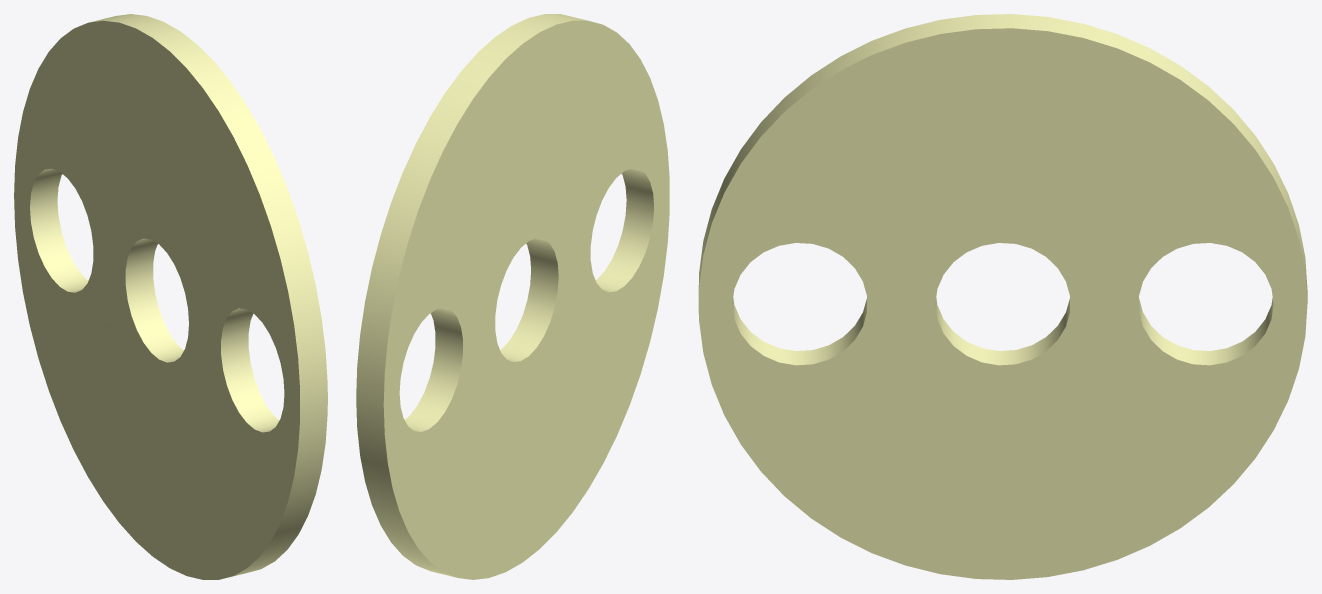
Rendered from joint1PlateWheel.obj.
3 views of the same model, side by side, from view 1: azimuth 30°, elevation 25°; view 2: azimuth 150°, elevation 25°; view 3: azimuth 270°, elevation 25° (orthographic). The views are drawn at different scales.
Parts seen in each view (by area): view 1: Root|joint1PlateWheel_(Default)|Default|Default_-_Part; view 2: Root|joint1PlateWheel_(Default)|Default|Default_-_Part; view 3: Root|joint1PlateWheel_(Default)|Default|Default_-_Part.
Part boxes in pixels (x1,y1,x2,y2): Root|joint1PlateWheel_(Default)|Default|Default_-_Part: (14, 14, 327, 579); Root|joint1PlateWheel_(Default)|Default|Default_-_Part: (356, 14, 669, 579); Root|joint1PlateWheel_(Default)|Default|Default_-_Part: (698, 14, 1307, 579).
Size of the model in its own units: 0.005 by 0.09 by 0.09.
